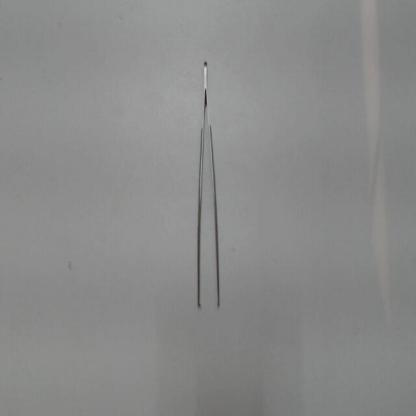Gillies Toothed Dissector: (192, 41, 226, 318)
